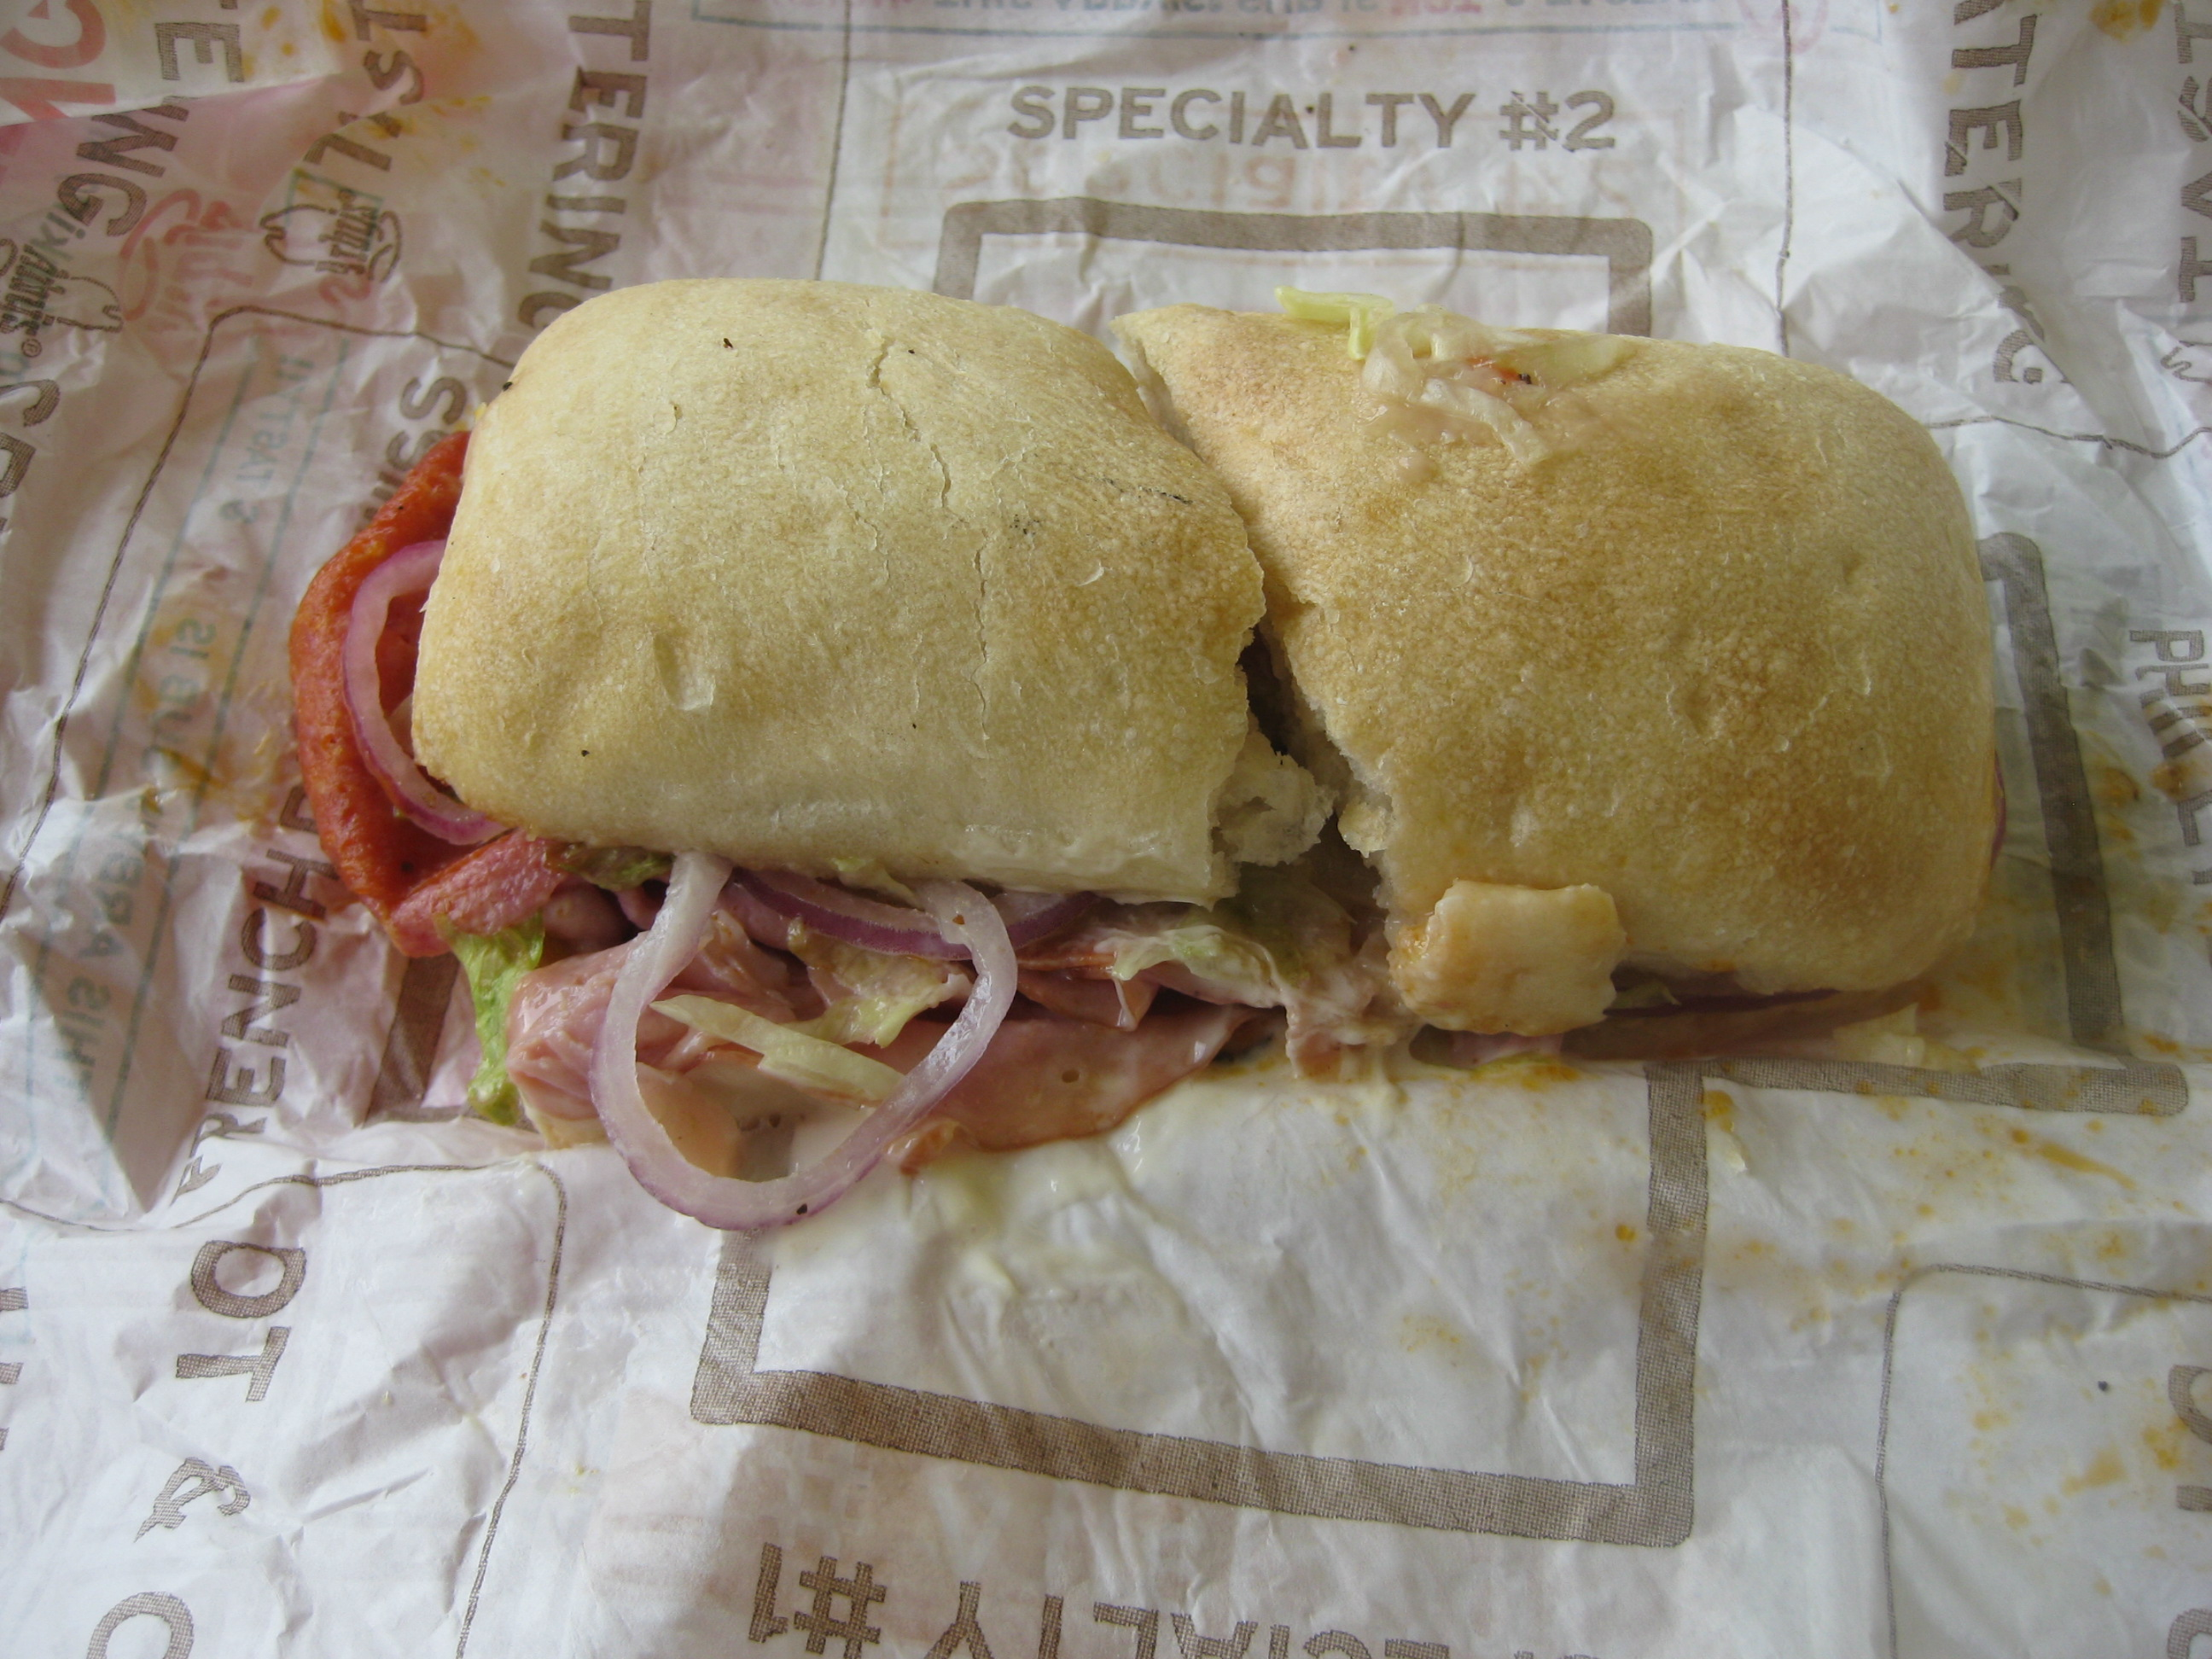sub: (247, 147, 2090, 1137)
